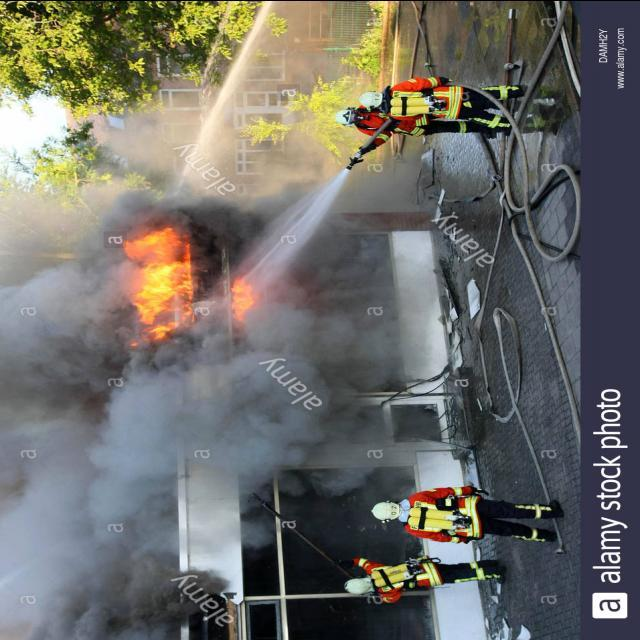Fire: (116, 203, 245, 355)
